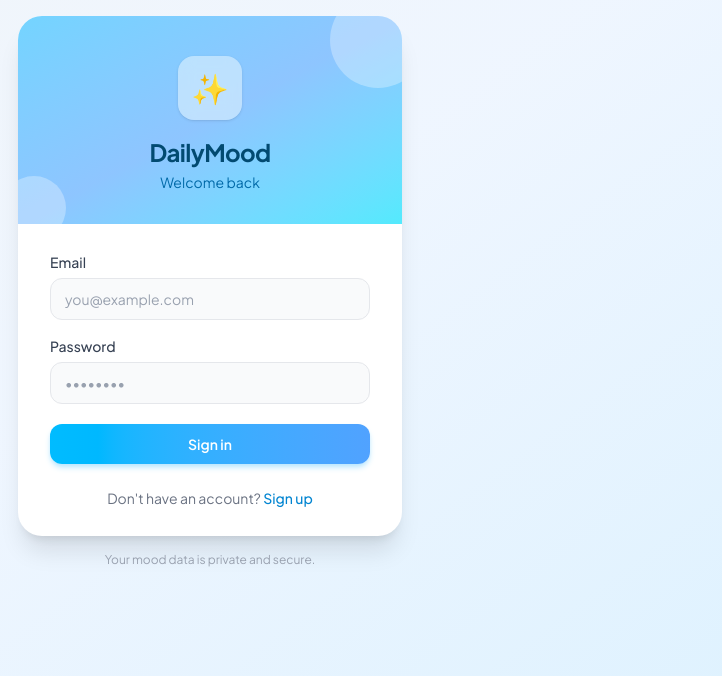
LoginPage (integration) › toggles to sign-up mode when "Sign up" link is clicked
Click the button "Sign up" at {"x": 288, "y": 498}, box x1=263 y1=488 x2=313 y2=508
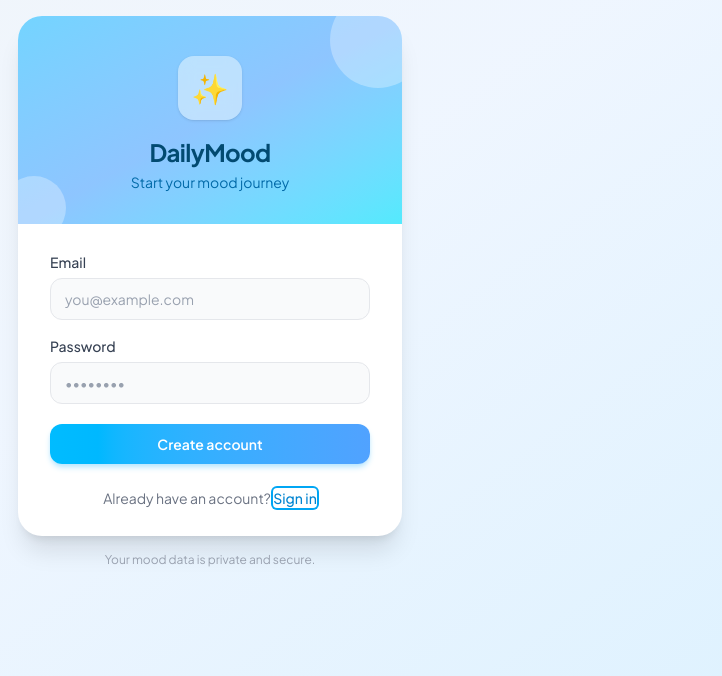
Expected: the text "Start your mood journey" is shown, x1=131 y1=173 x2=289 y2=191
Expected: the button "Create account" is shown, x1=50 y1=424 x2=370 y2=464
